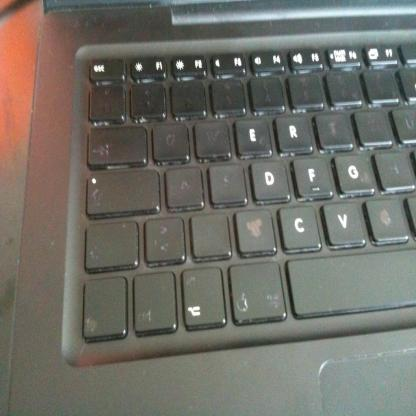board: (7, 0, 416, 416)
